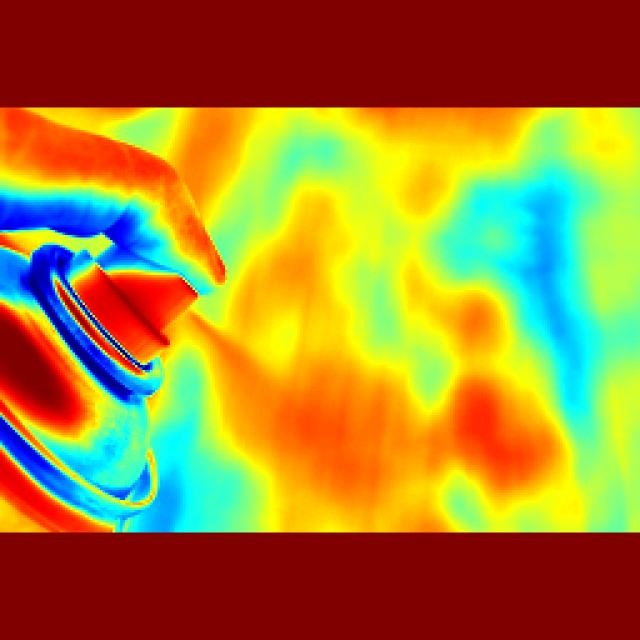Aerosol Cans: (0, 214, 221, 548)
